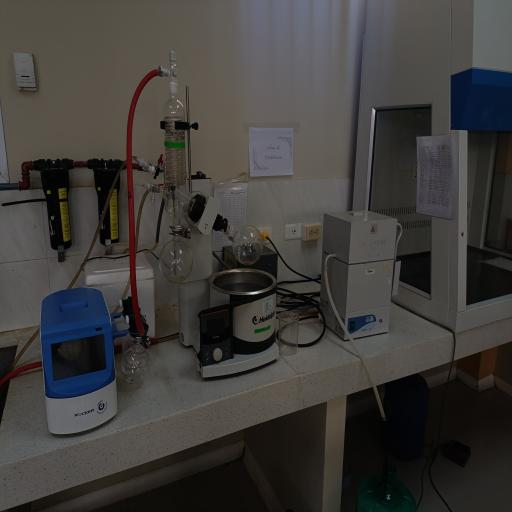Destilador_agua: (314, 194, 406, 349)
